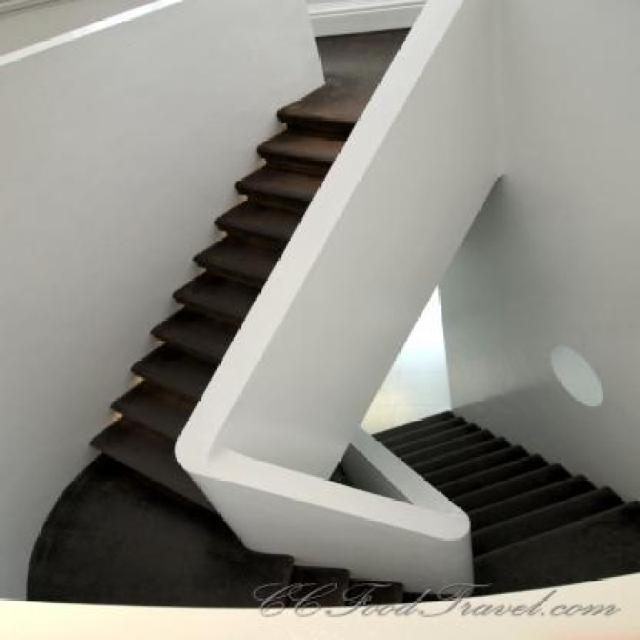stair: (26, 108, 639, 610)
